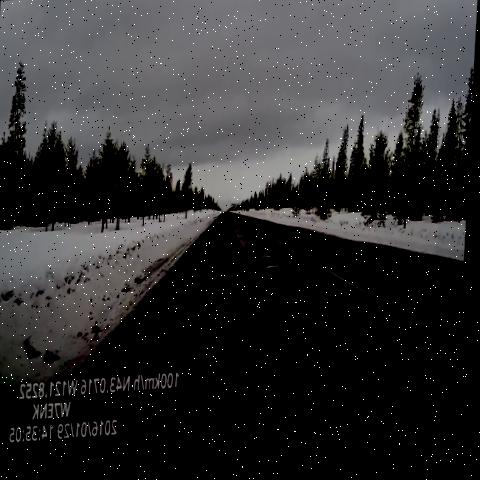pothole: (255, 247, 279, 264), (237, 223, 254, 246), (282, 283, 303, 300), (263, 260, 283, 277)
